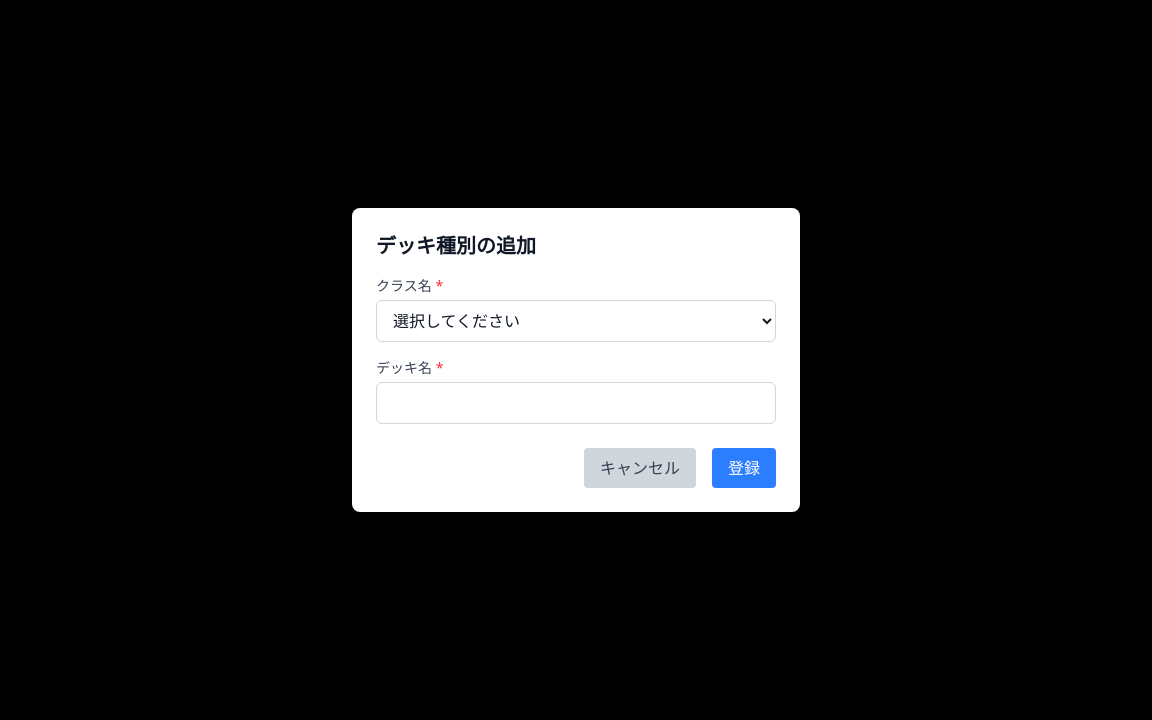
Test: DeckMasterDialog › 新規追加モード › TC-DM-DIALOG-003: className未選択で登録ボタン押下時にエラー
# 【deckName入力】: デッキ名のみ入力してclassNameは未選択 🔵
Type "テストデッキ" into the field labelled "デッキ名 *" at (576, 403), box [376, 382, 776, 424]
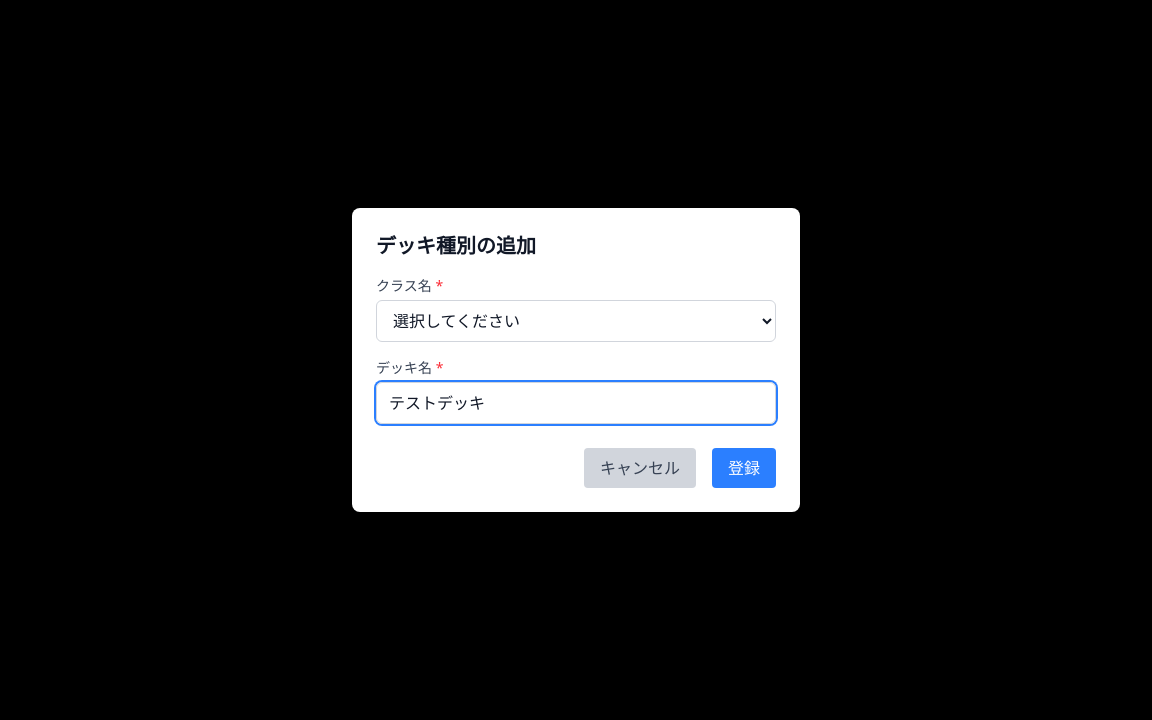
# 【登録ボタンクリック】: 登録ボタンを押す 🔵
Click the button "登録" at (744, 468), box [712, 448, 776, 488]
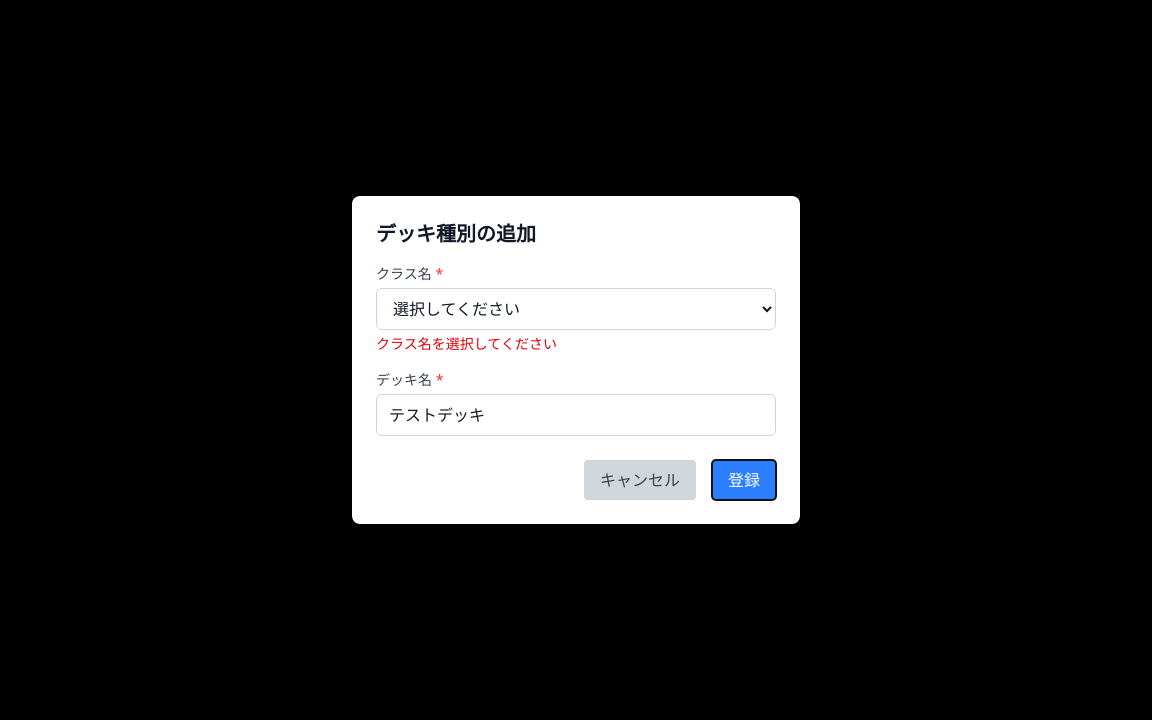
Now the text "クラス名を選択してください" is shown, box [376, 334, 557, 353]
